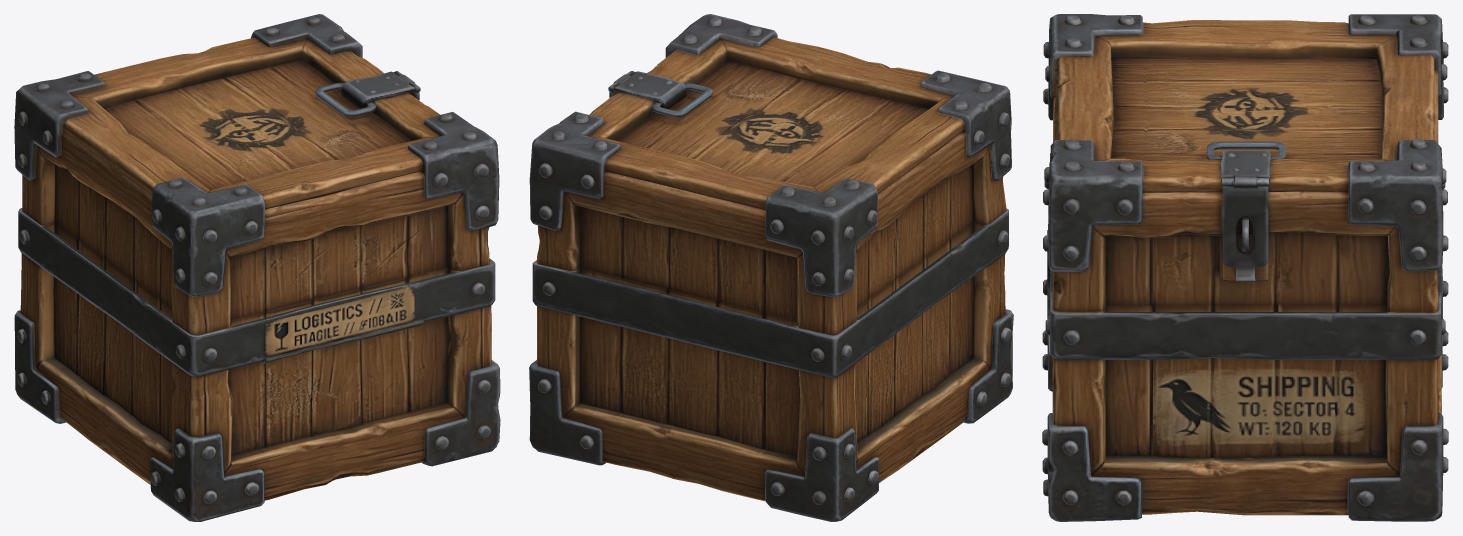
Rendered from SM_WoodenShippingCrate.fbx.
3 renders of one model, left to right at view 1: azimuth 30°, elevation 25°; view 2: azimuth 150°, elevation 25°; view 3: azimuth 270°, elevation 25°, orthographic. The views are drawn at different scales.
Visible parts, largest first — view 1: tripo_106d626a_13e1_4092_be52_4825ec14046e; view 2: tripo_106d626a_13e1_4092_be52_4825ec14046e; view 3: tripo_106d626a_13e1_4092_be52_4825ec14046e.
Part boxes in pixels (x1,y1,x2,y2): tripo_106d626a_13e1_4092_be52_4825ec14046e: (14,14,500,521); tripo_106d626a_13e1_4092_be52_4825ec14046e: (529,14,1013,521); tripo_106d626a_13e1_4092_be52_4825ec14046e: (1042,14,1448,521).
Size of the model in its own units: 0.9995 by 0.9478 by 0.9878.
1 material, 1 textured.
